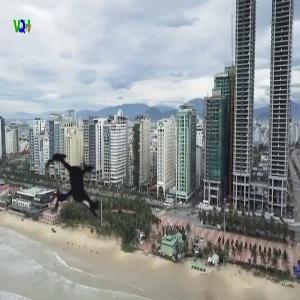drone: (12, 127, 134, 249)
